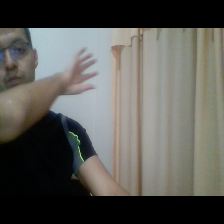left: (63, 44, 105, 99)
